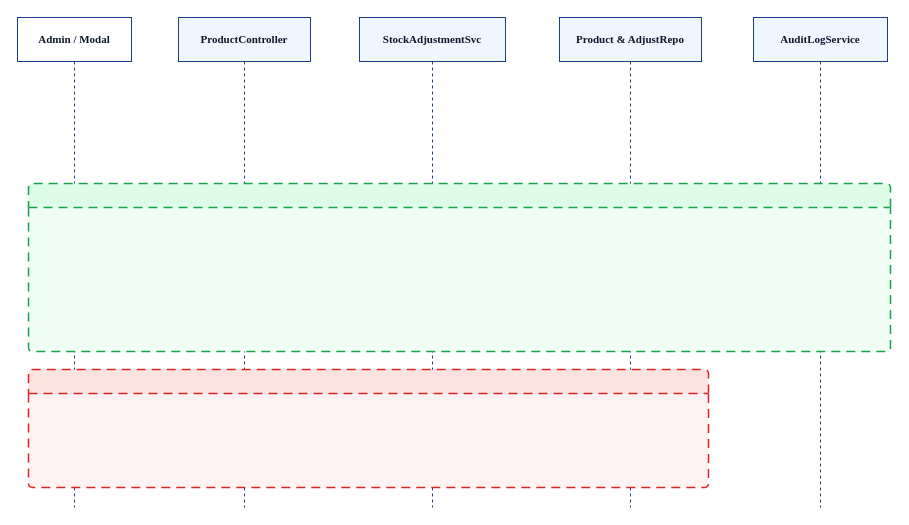
The diagram is 909 pixels wide and 525 high, and some of its shapes have lost their labels. Here are the shapes that lost their labels. From the top down, the centre of each, then its label:
At [459,267]: "alt [delta != 0 & reason != '' & version khớp & newQty >= 0]".
At [368,428]: "else [version != product.version]".
